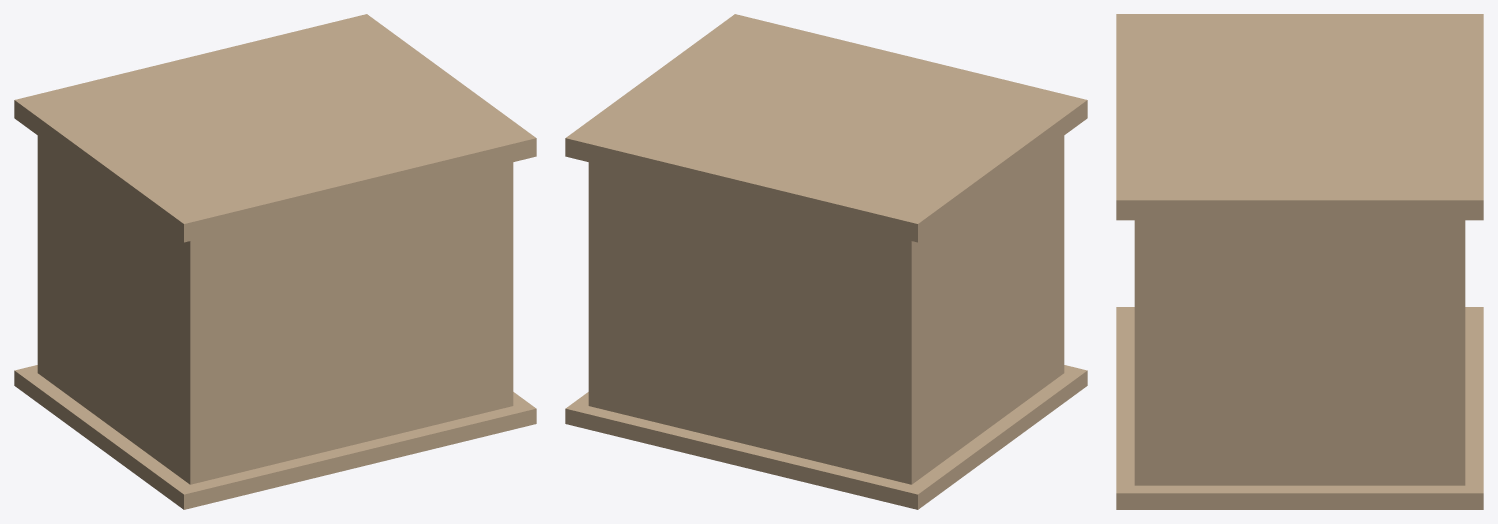
Rendered from shed_01.lod1.glb.
3 views of the same model, side by side, from view 1: azimuth 30°, elevation 25°; view 2: azimuth 150°, elevation 25°; view 3: azimuth 270°, elevation 25° (orthographic). The views are drawn at different scales.
Parts seen in each view (by area): view 1: shed_01_lod1; view 2: shed_01_lod1; view 3: shed_01_lod1.
Boxes of the visible parts, bbox=[...] form: shed_01_lod1: bbox=[14, 14, 536, 509]; shed_01_lod1: bbox=[565, 14, 1087, 509]; shed_01_lod1: bbox=[1116, 14, 1483, 509].
Size of the model in its own units: 1.2 by 0.93 by 1.
